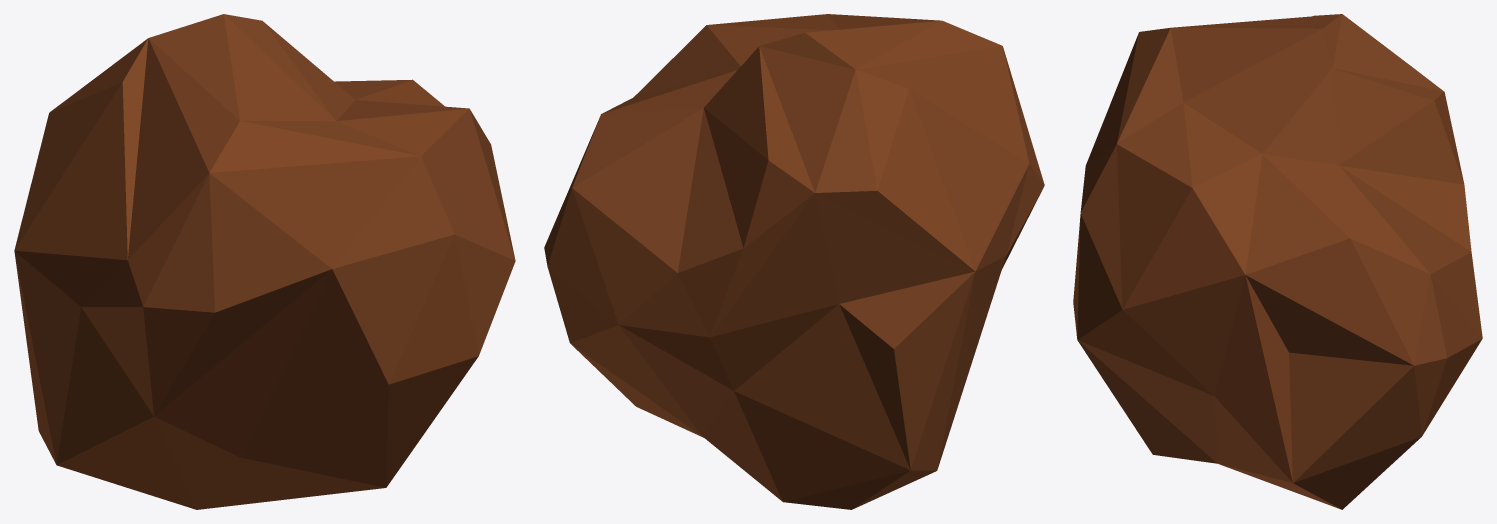
The model's file is Asteroide2.fbx.
The picture shows the model from 3 angles, left to right: view 1: azimuth 30°, elevation 25°; view 2: azimuth 150°, elevation 25°; view 3: azimuth 270°, elevation 25°; orthographic projection. The views are drawn at different scales.
Parts seen in each view (by area): view 1: Asteroide2; view 2: Asteroide2; view 3: Asteroide2.
Part boxes in pixels (box(x1,y1,x2,y2)): Asteroide2: box(14, 14, 515, 509); Asteroide2: box(544, 14, 1044, 509); Asteroide2: box(1073, 14, 1482, 509).
Bounding box in the file's own units: 1.74 × 1.89 × 1.56.
